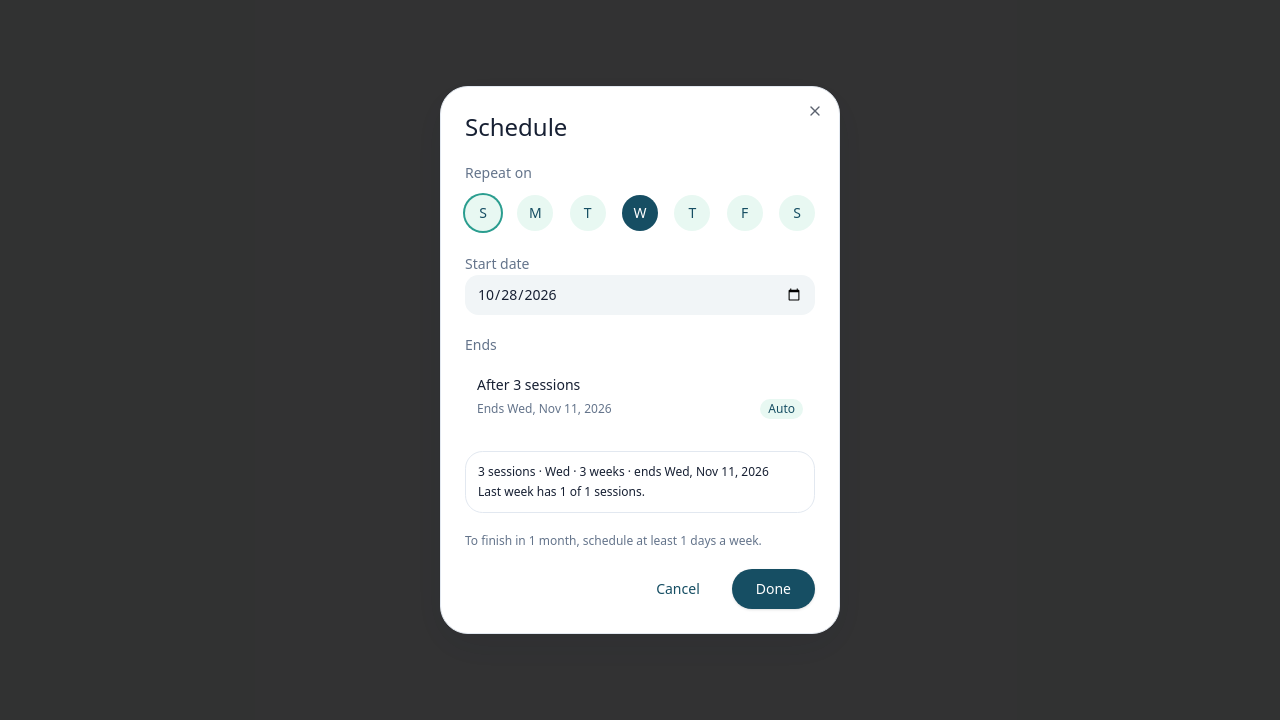
Test: Automatic class schedule dialog › calculates the end after the required sessions from individually selected weekdays
Later steps or results of the test are not shown.
What coordinates should you click on to do the following:
click the button named "Wednesday"
I would click on:
 (640, 213)
Its box is [622, 195, 658, 231].
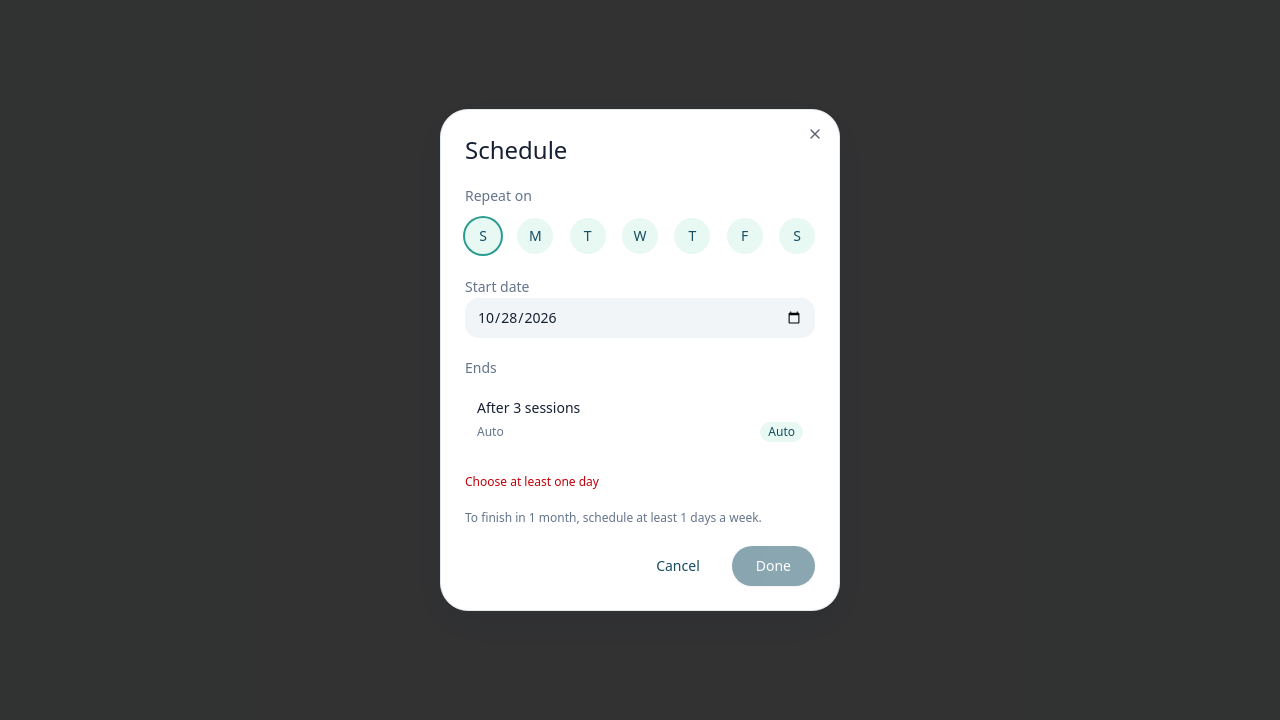
What coordinates should you click on to do the following:
click the button named "Tuesday"
I would click on:
 (588, 236)
Its box is [570, 218, 606, 254].
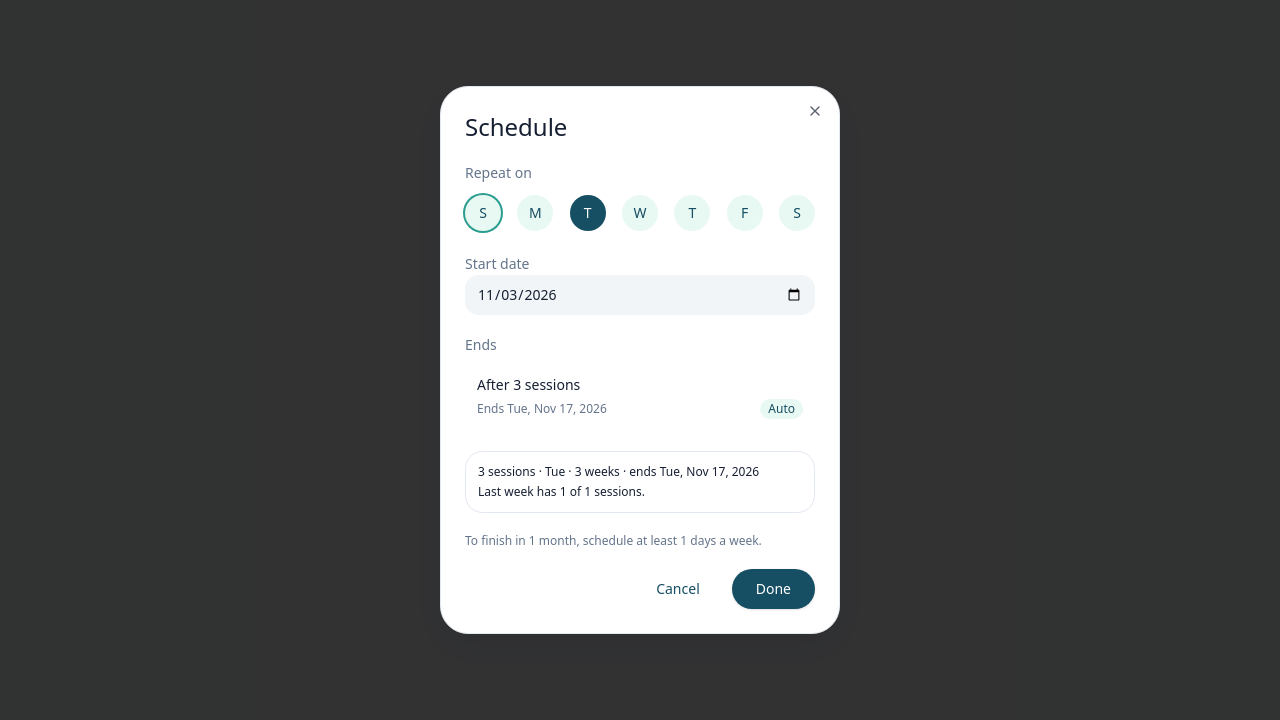
What coordinates should you click on to do the following:
click the button named "Thursday"
I would click on:
 (692, 213)
Its box is [674, 195, 710, 231].
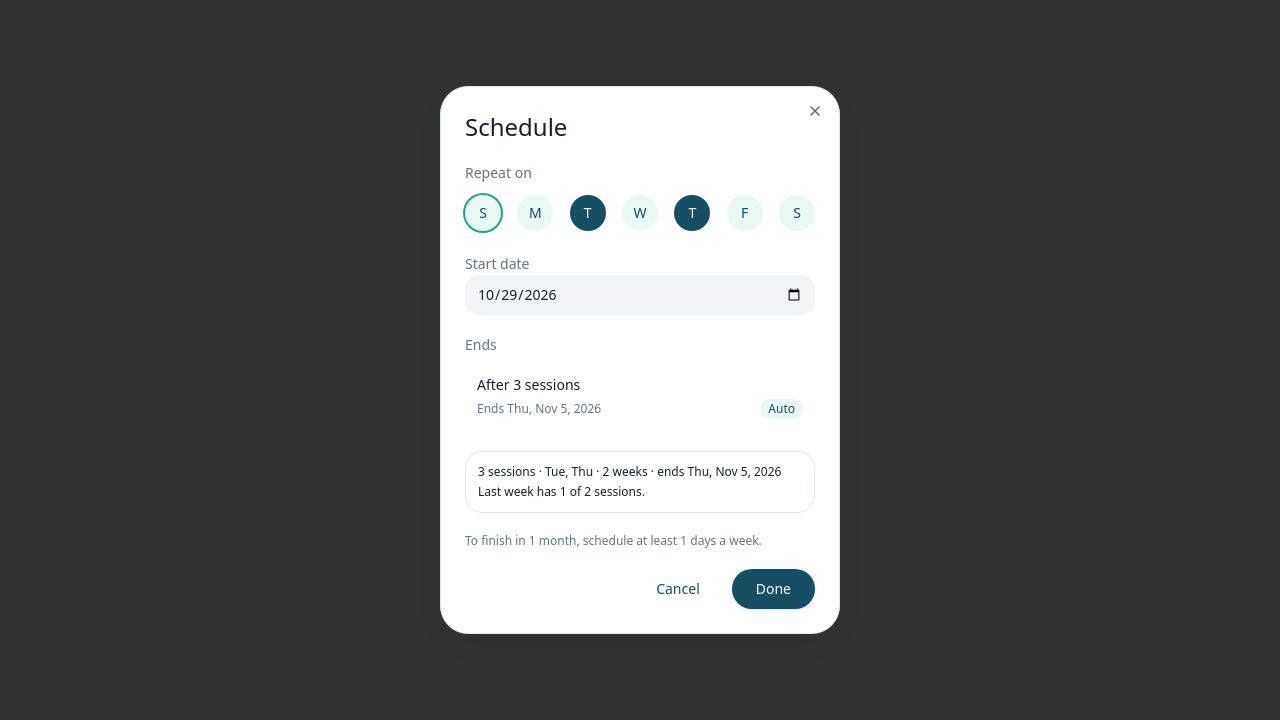
Now the text "3 sessions · Tue, Thu · 2 weeks · ends Thu, Nov 5, 2026" is shown, box [478, 464, 802, 480]
